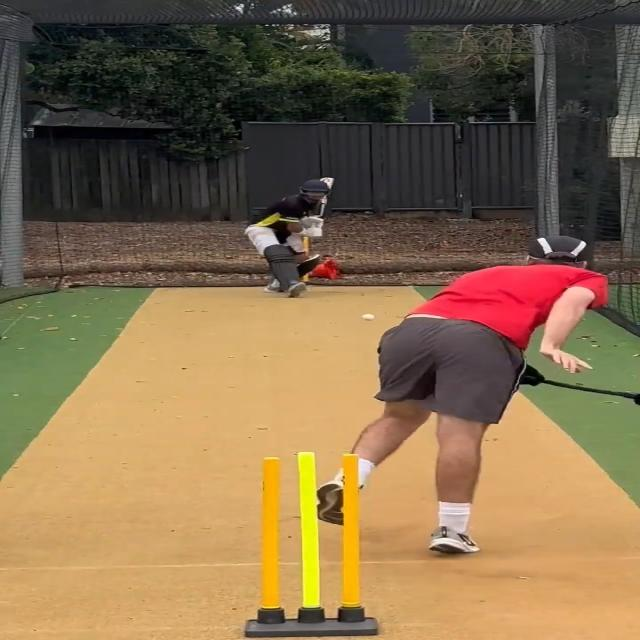ball: (358, 313, 376, 322)
stump: (247, 452, 376, 640)
